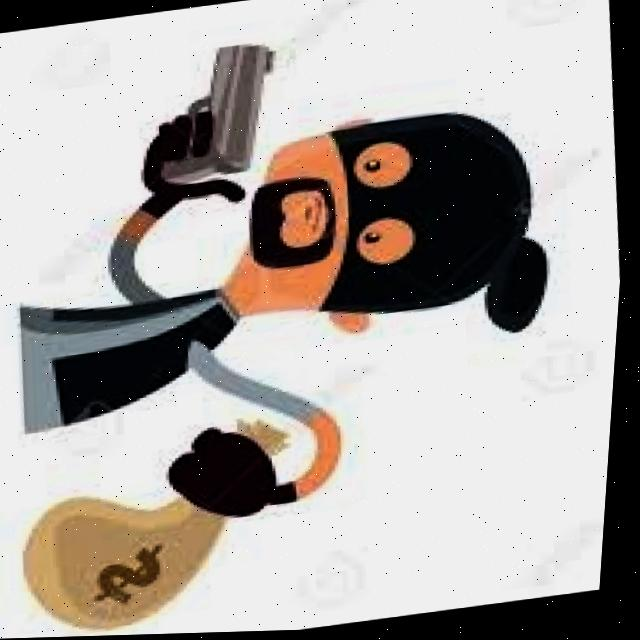pistol: (179, 41, 291, 182)
